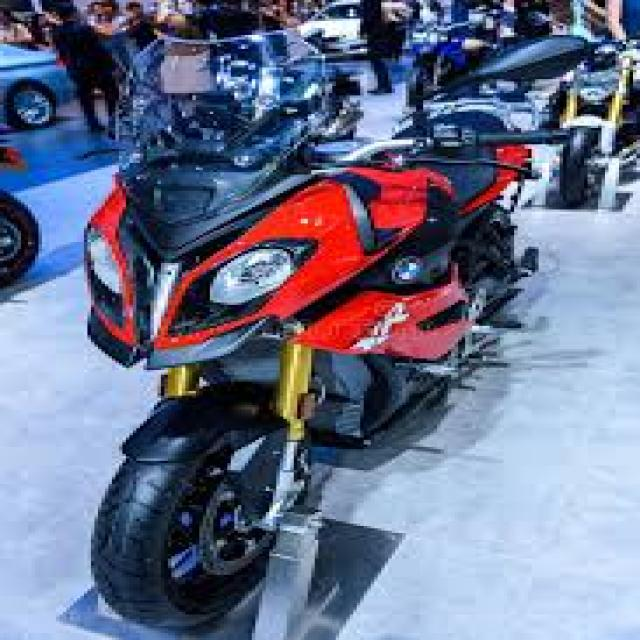Bike: (79, 33, 589, 633)
